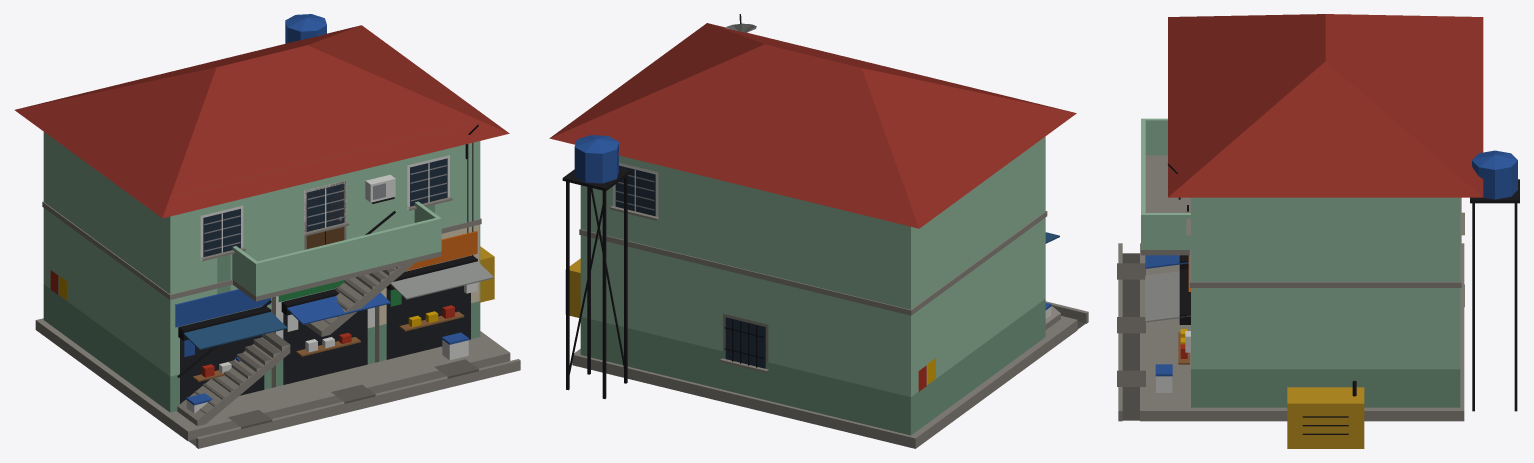
The model's file is bld_laptop-house.edd2b4486b87.glb.
3 views of the same model, side by side, from view 1: azimuth 30°, elevation 25°; view 2: azimuth 150°, elevation 25°; view 3: azimuth 270°, elevation 25° (orthographic). The views are drawn at different scales.
Parts seen in each view (by area): view 1: body; view 2: body; view 3: body.
Boxes of the visible parts, x1,y1,x2,y2 form: body: (14, 14, 520, 448); body: (549, 14, 1088, 448); body: (1117, 14, 1519, 448).
Size of the model in its own units: 12.41 by 8.61 by 10.47.
